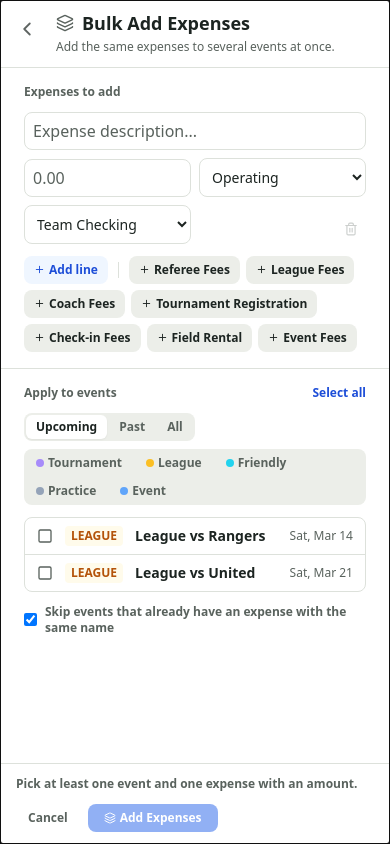
Scenario: BulkExpenseModal › keeps the modal open and shows the error when the batch is rejected
The image size is (390, 844).
Step 1. Type "Referee Fees" into the field with placeholder "Expense description..." → [195, 130], box [24, 112, 366, 150]
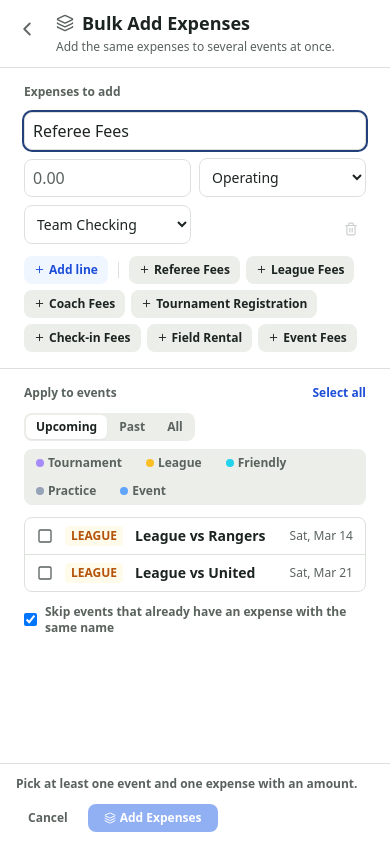
Step 2. Type "65" into the number field → [108, 178], box [24, 158, 191, 196]
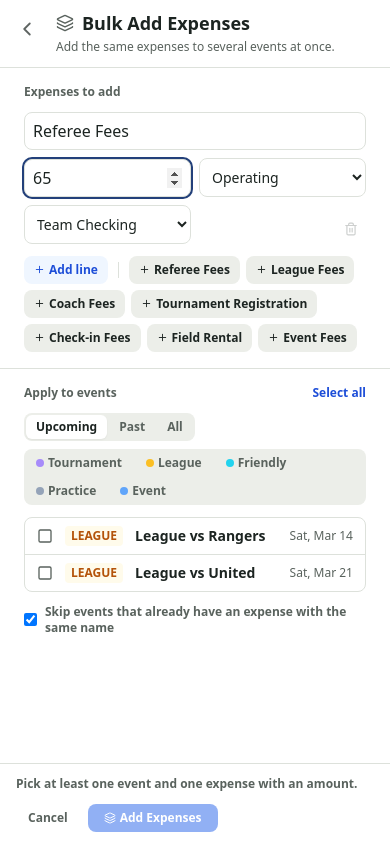
Step 3. Click the button "Select all" → [339, 392], box [312, 384, 366, 400]
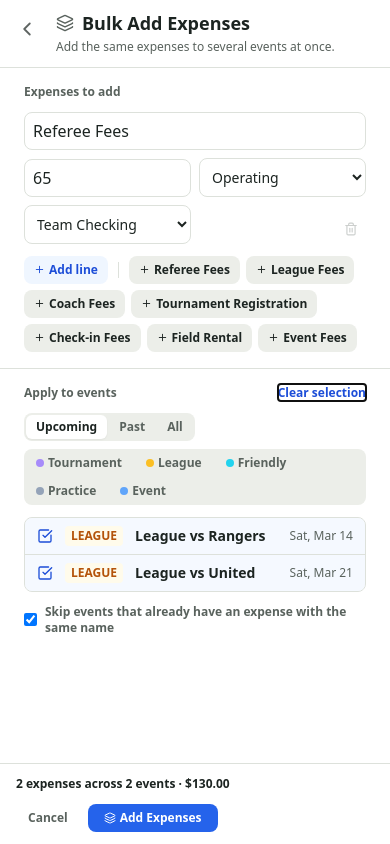
Step 4. Click the button "Add Expenses" → [153, 818], box [88, 804, 218, 832]
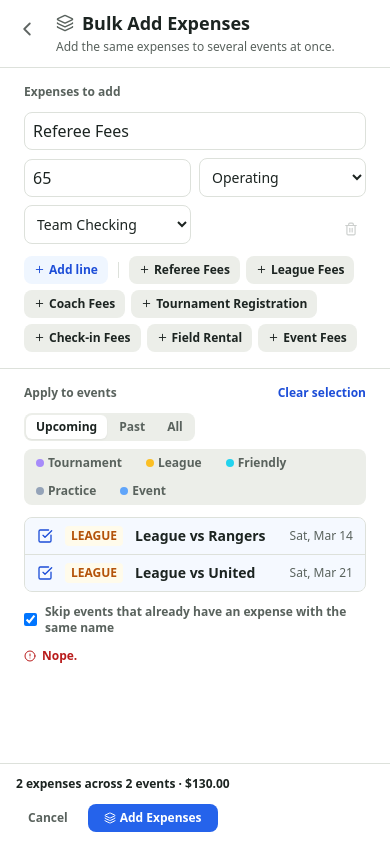
Now the text "Nope." is shown, box [24, 646, 77, 664]
